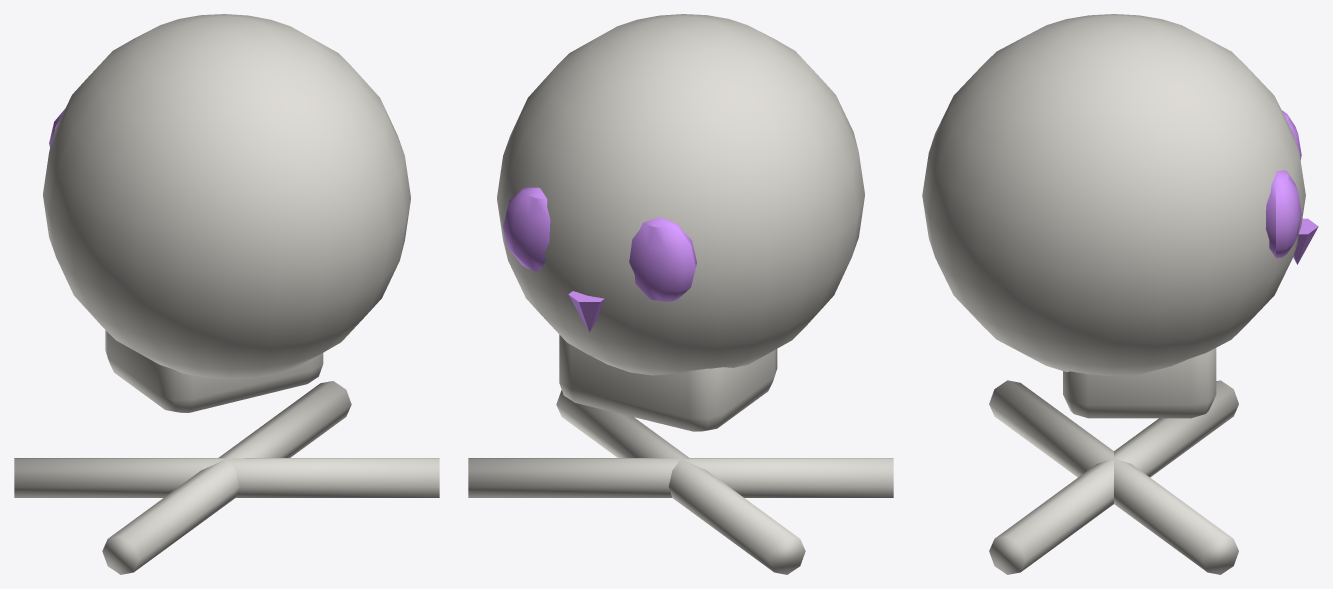
Rendered from Skull.fbx.
3 renders of one model, left to right at view 1: azimuth 30°, elevation 25°; view 2: azimuth 150°, elevation 25°; view 3: azimuth 270°, elevation 25°, orthographic.
Visible parts, largest first — view 1: Body.014; view 2: Body.014, Trim.013; view 3: Body.014, Trim.013.
Boxes of the visible parts, x1,y1,x2,y2 form: Body.014: (14,14,439,574); Body.014: (468,14,893,574); Trim.013: (503,187,696,332); Body.014: (922,14,1305,574); Trim.013: (1266,110,1318,264).
Bounding box in the file's own units: 0.916 × 1.21 × 0.93.
